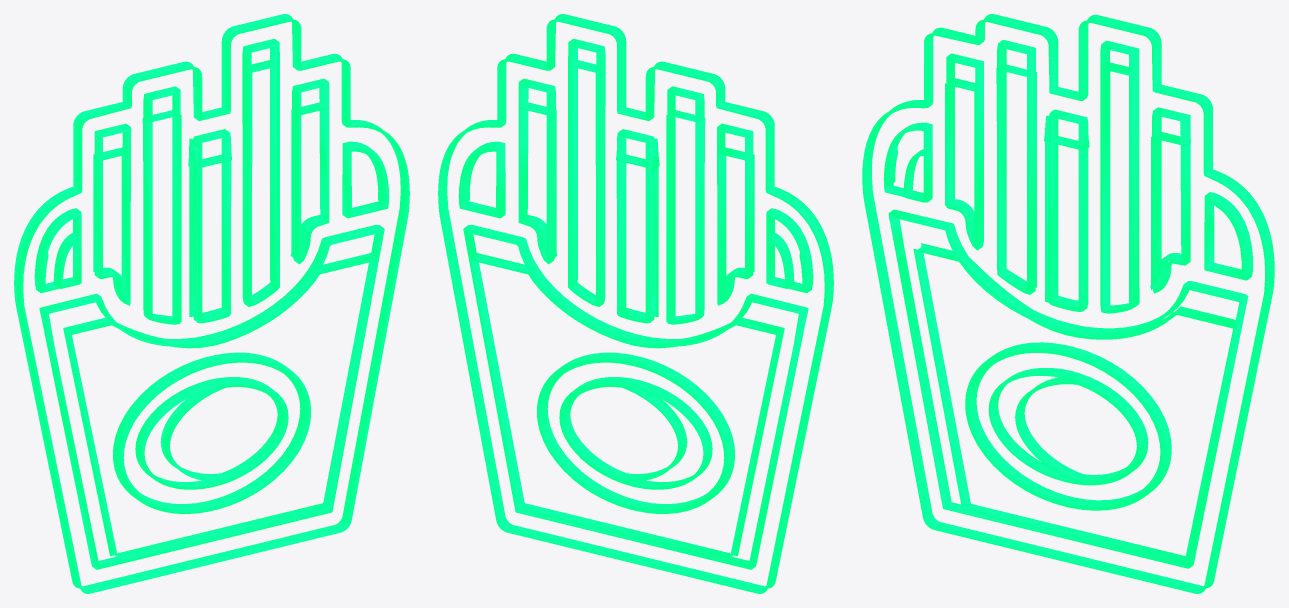
File: fries.glb
3 renders of one model, left to right at view 1: azimuth 30°, elevation 25°; view 2: azimuth 150°, elevation 25°; view 3: azimuth 330°, elevation 25°, orthographic. The views are drawn at different scales.
Visible parts, largest first — view 1: Curve.001; view 2: Curve.001; view 3: Curve.001.
Boxes of the visible parts, x1=… form: Curve.001: x1=14, y1=14, x2=409, y2=593; Curve.001: x1=438, y1=14, x2=833, y2=593; Curve.001: x1=862, y1=14, x2=1274, y2=593.
Bounding box in the file's own units: 2.62 × 3.39 × 0.0874.
